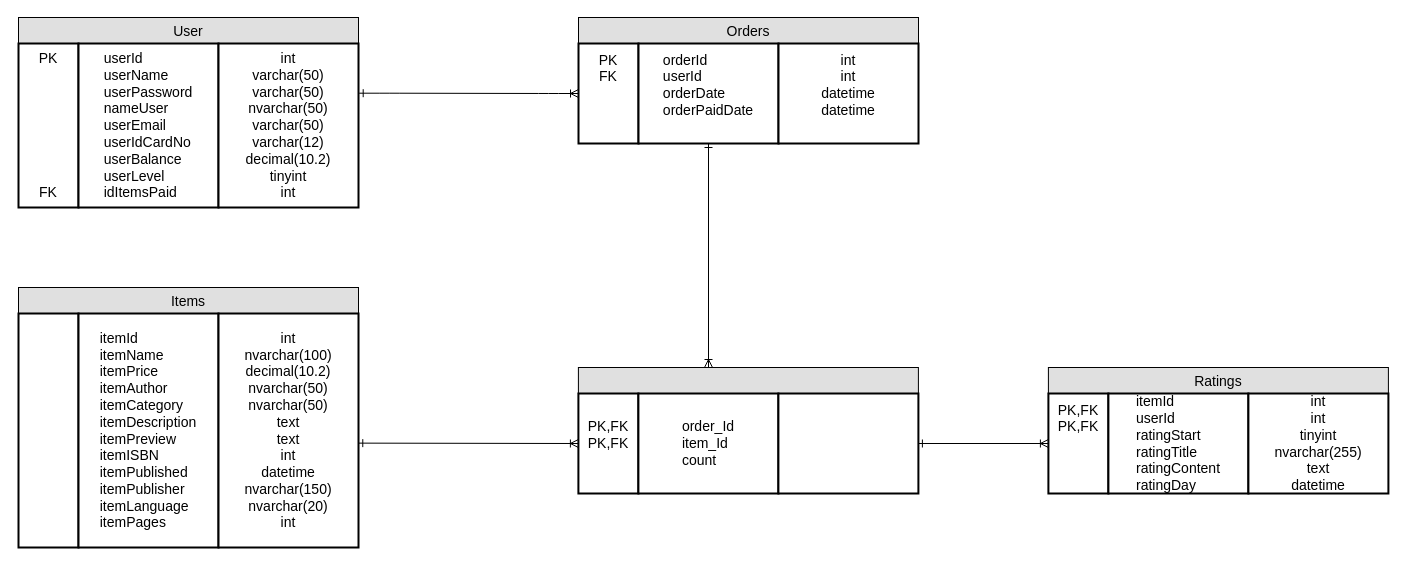
Some shapes in this 1406 by 566 pixel diagram are drawn without their labels. The shapes that lost their labels are listed below. From the top down, each one's box as (x1, y1, x2, y2) in pixels, then its label:
(577, 366, 918, 394): OrderDetails
(17, 312, 79, 548): Pk
(777, 392, 919, 494): int int int
